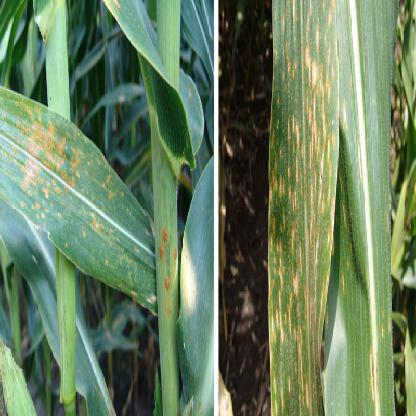corn rust leaf: (1, 85, 154, 321)
